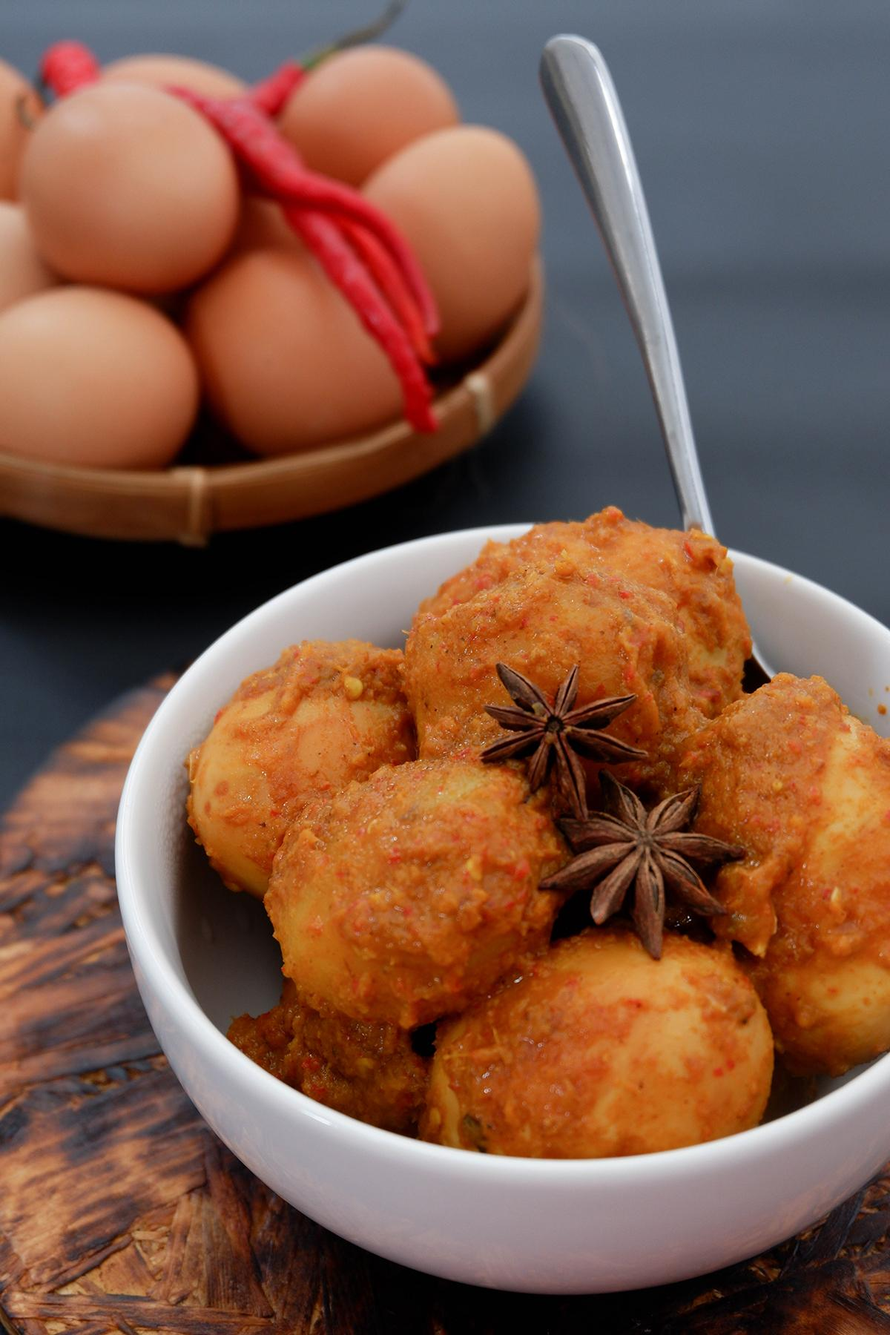telur: (330, 609, 770, 1075)
